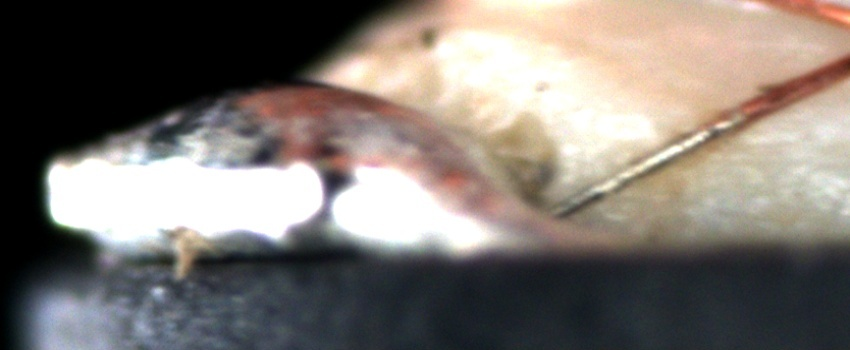DL: (689, 124, 850, 188)
TS: (548, 111, 745, 218)
